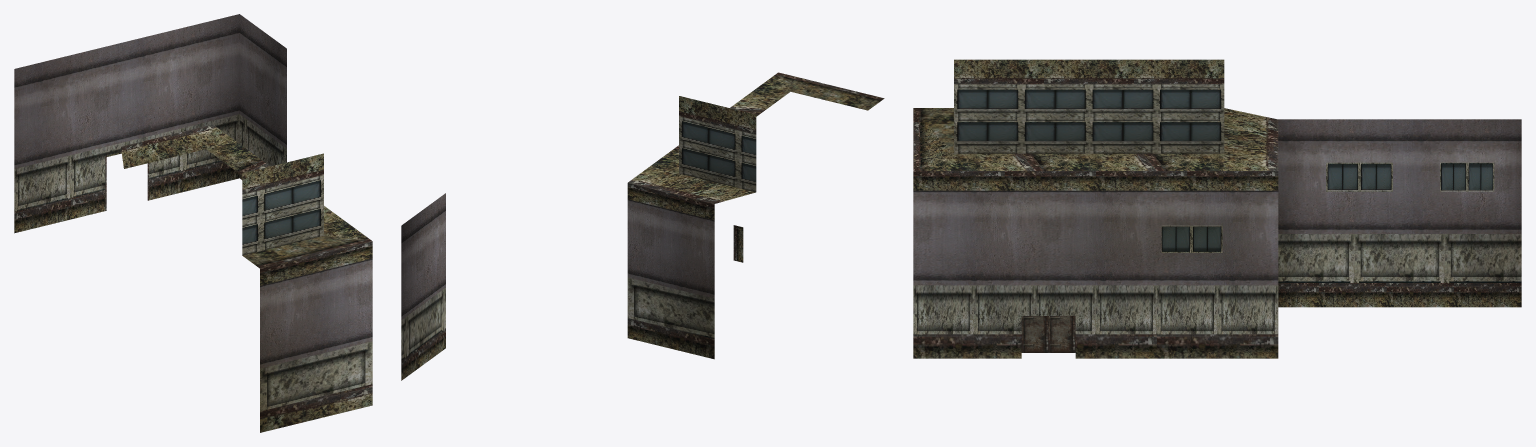
Rendered from M10_Z01_18_Tower01.glb.
3 renders of one model, left to right at view 1: azimuth 30°, elevation 25°; view 2: azimuth 150°, elevation 25°; view 3: azimuth 270°, elevation 25°, orthographic. The views are drawn at different scales.
Parts seen in each view (by area): view 1: M10_Z01_18_TOWER01; view 2: M10_Z01_18_TOWER01; view 3: M10_Z01_18_TOWER01.
Part boxes in pixels (left/top/right/bottom): M10_Z01_18_TOWER01: left=14, top=14, right=372, bottom=432; M10_Z01_18_TOWER01: left=401, top=72, right=884, bottom=380; M10_Z01_18_TOWER01: left=913, top=59, right=1521, bottom=358.
Size of the model in its own units: 12 by 11.51 by 22.5.
4 materials, 4 textured.
